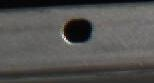holes: (61, 16, 94, 45)
